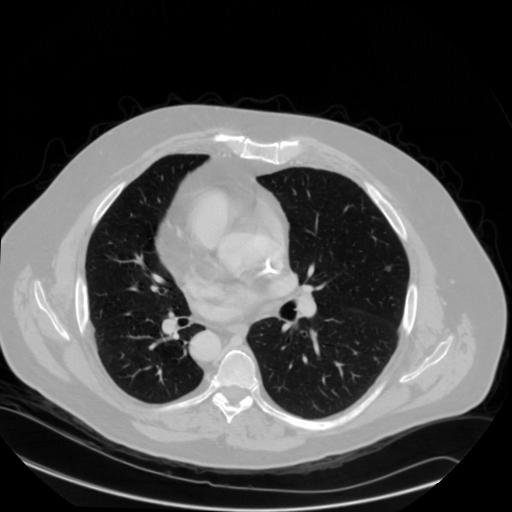nodule: (385, 264, 394, 273)
